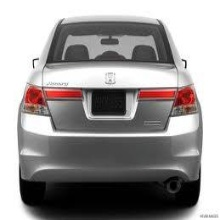no damage: (17, 16, 203, 209)
